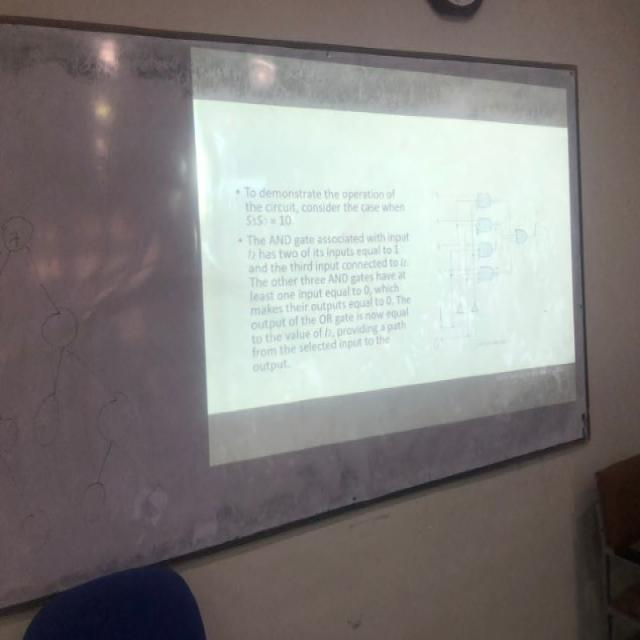Slide: (190, 53, 576, 472)
White-board: (0, 12, 589, 610)
